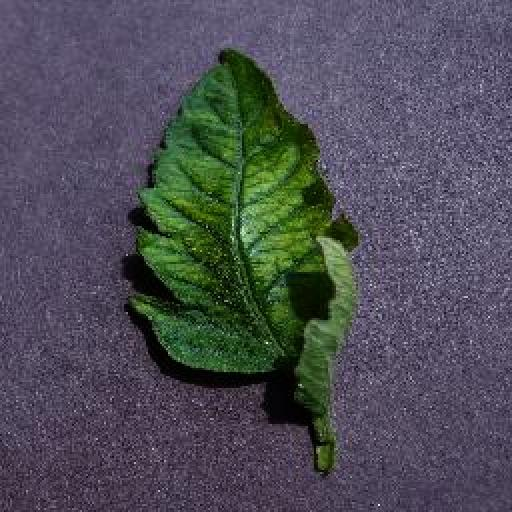Mosaic Virus: (122, 46, 364, 378)
